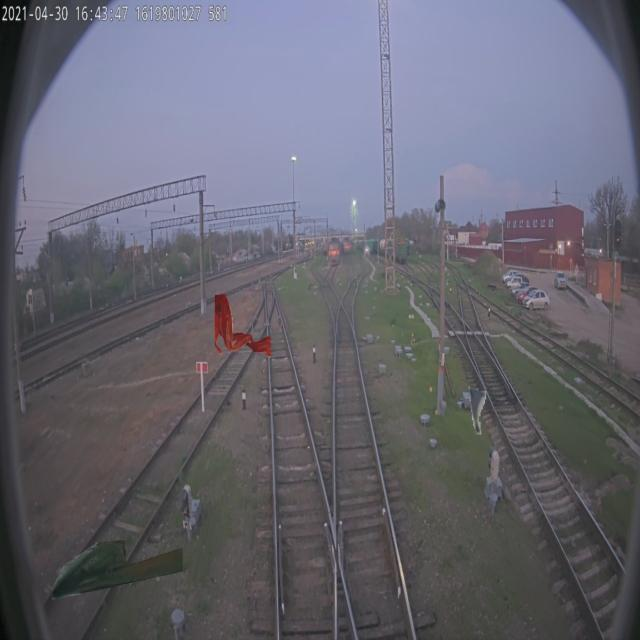floating object: (53, 536, 182, 600), (214, 294, 270, 358), (467, 372, 486, 436)
